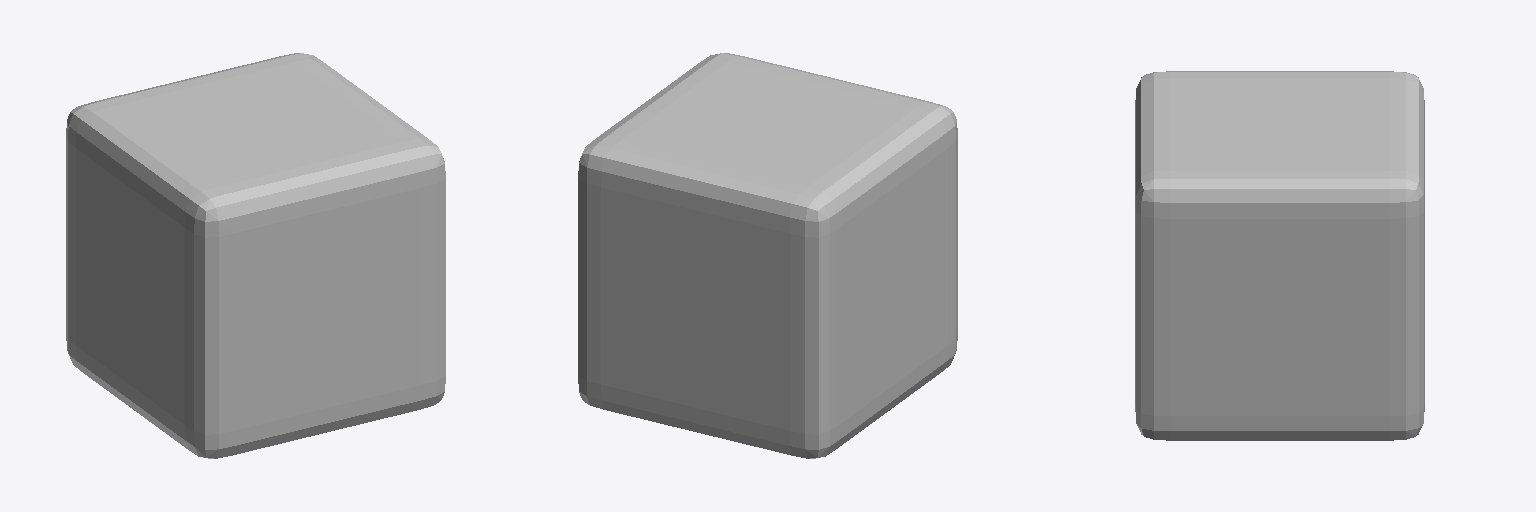
The model's file is board.obj.
The picture shows the model from 3 angles: view 1: azimuth 30°, elevation 25°; view 2: azimuth 150°, elevation 25°; view 3: azimuth 270°, elevation 25°; orthographic projection.
Parts seen in each view (by area): view 1: Cube; view 2: Cube; view 3: Cube.
Boxes of the visible parts, <box> form: Cube: <box>66,53,445,458</box>; Cube: <box>578,53,957,458</box>; Cube: <box>1135,71,1424,440</box>.
Bounding box in the file's own units: 2 × 2 × 2.